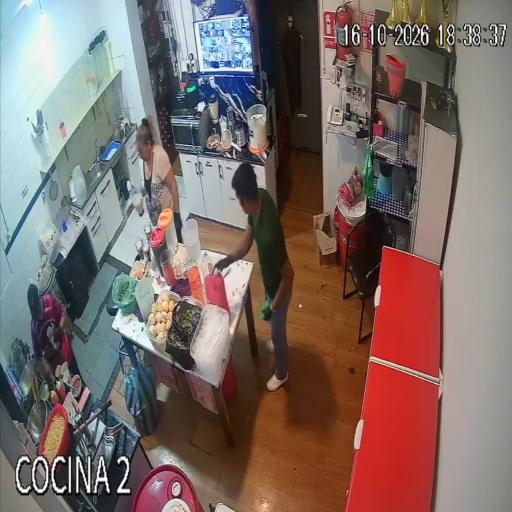Envase Ketchup: (57, 380, 66, 400)
Envase Llajua: (48, 388, 61, 405)
Jarra1: (150, 228, 166, 274)
Jarra2: (157, 209, 178, 254)
Jarra3: (183, 217, 202, 266)
Microondas: (171, 110, 211, 153)
Persona2: (215, 163, 294, 391), (27, 284, 79, 378)
Persona3: (136, 117, 179, 225)
Taper: (40, 225, 60, 261)
Taper2: (166, 296, 203, 370)
Taper3: (190, 304, 230, 384)
Taper4: (146, 290, 182, 352)
olla1: (19, 358, 38, 401)
